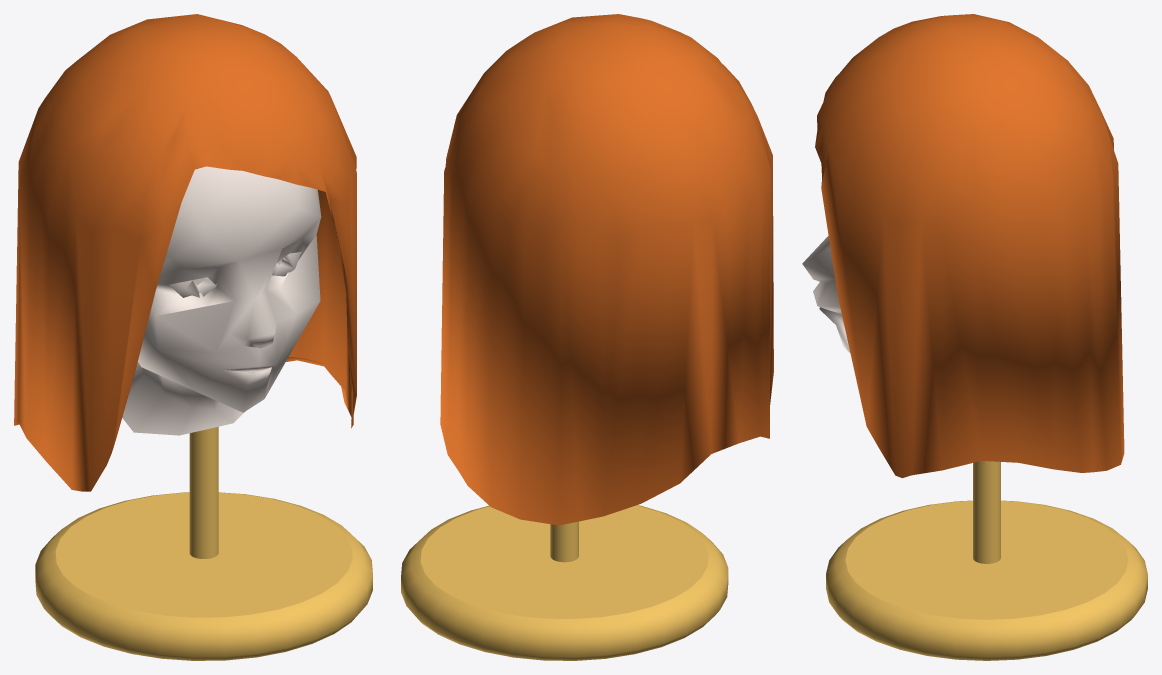
The model's file is rain.hair.copper-lob.lod1.glb.
The picture shows the model from 3 angles, left to right: view 1: azimuth 30°, elevation 25°; view 2: azimuth 150°, elevation 25°; view 3: azimuth 270°, elevation 25°; orthographic projection. The views are drawn at different scales.
Visible parts, largest first — view 1: Hairstyles.copper-lob.Crown, stand_base, GEO-rain-head, stand_stem, GEO-rain-eyes; view 2: Hairstyles.copper-lob.Crown, stand_base, stand_stem; view 3: Hairstyles.copper-lob.Crown, stand_base, stand_stem, GEO-rain-head.
Part boxes in pixels (x1=…): Hairstyles.copper-lob.Crown: x1=14, y1=14, x2=356, y2=491; stand_base: x1=35, y1=492, x2=372, y2=660; GEO-rain-head: x1=122, y1=166, x2=321, y2=435; stand_stem: x1=189, y1=426, x2=218, y2=558; GEO-rain-eyes: x1=169, y1=252, x2=301, y2=297; Hairstyles.copper-lob.Crown: x1=440, y1=14, x2=773, y2=525; stand_base: x1=401, y1=505, x2=728, y2=660; stand_stem: x1=550, y1=521, x2=578, y2=562; Hairstyles.copper-lob.Crown: x1=815, y1=14, x2=1124, y2=478; stand_base: x1=826, y1=500, x2=1147, y2=660; stand_stem: x1=973, y1=461, x2=1000, y2=563; GEO-rain-head: x1=802, y1=236, x2=850, y2=353.
Bounding box in the file's own units: 0.4366 × 0.7505 × 0.4212.
